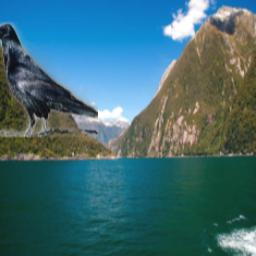Crow: (0, 22, 99, 137)
